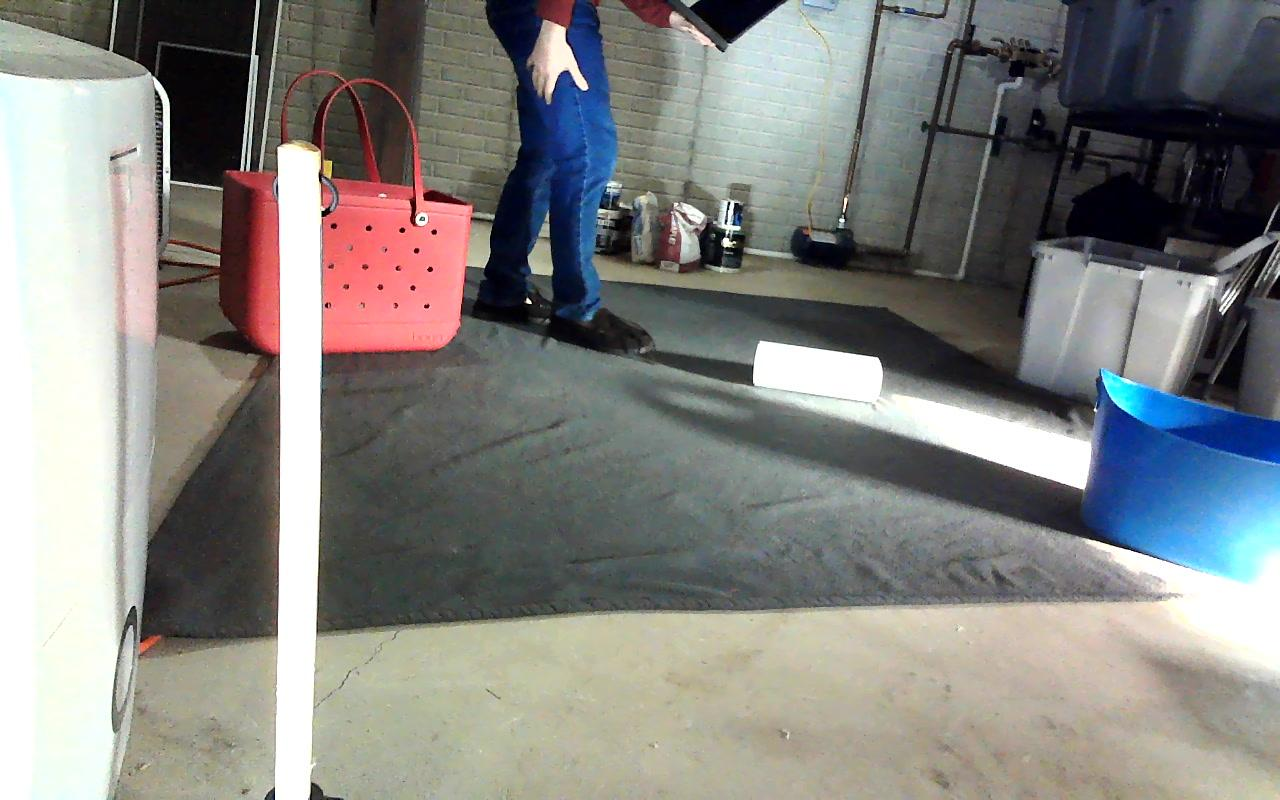coral: (752, 339, 881, 404)
